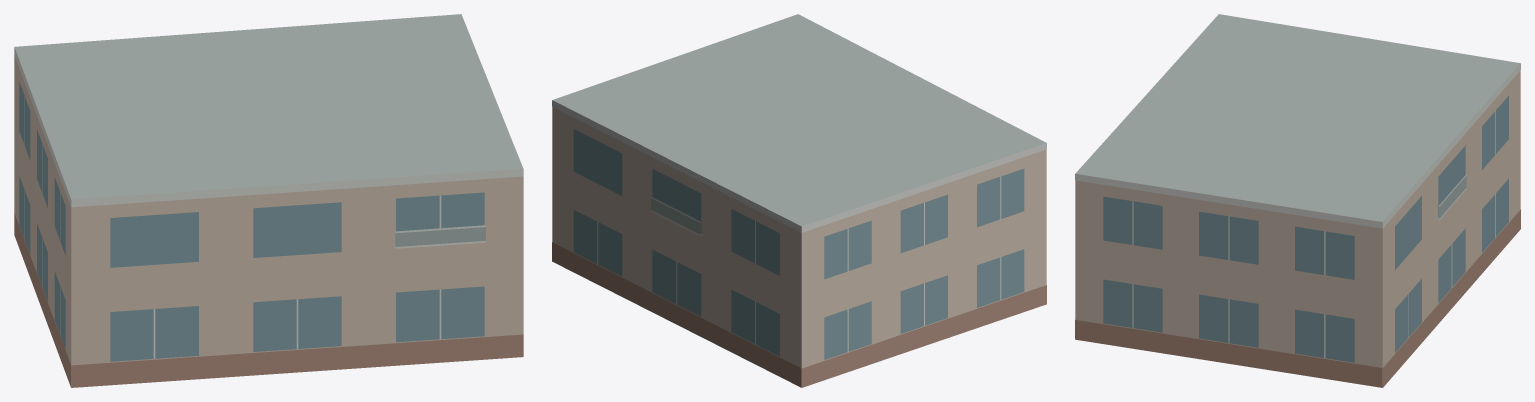
The model's file is survey-upis-32850248.glb.
The picture shows the model from 3 angles, left to right: view 1: azimuth 30°, elevation 25°; view 2: azimuth 150°, elevation 25°; view 3: azimuth 270°, elevation 25°; orthographic projection. The views are drawn at different scales.
Parts seen in each view (by area): view 1: survey-upis-32850248.tmp; view 2: survey-upis-32850248.tmp; view 3: survey-upis-32850248.tmp.
Boxes of the visible parts, box(x1,y1,x2,y2) form: survey-upis-32850248.tmp: box(14, 14, 523, 387); survey-upis-32850248.tmp: box(552, 14, 1046, 387); survey-upis-32850248.tmp: box(1075, 14, 1520, 387).
Size of the model in its own units: 16.42 by 6.1 by 14.86.
